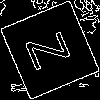Z: (25, 25, 80, 72)
